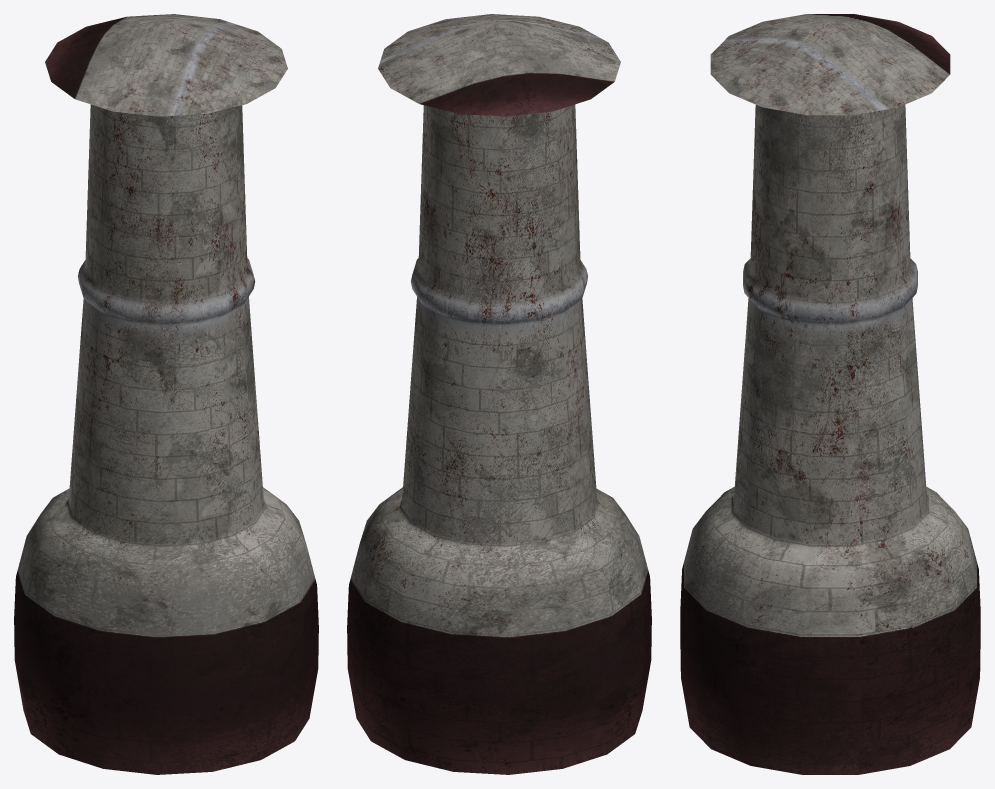
Rendered from LightHouse.fbx.
The picture shows the model from 3 angles, left to right: view 1: azimuth 30°, elevation 25°; view 2: azimuth 150°, elevation 25°; view 3: azimuth 270°, elevation 25°; orthographic projection.
Visible parts, largest first — view 1: Cylinder, Cylinder.002; view 2: Cylinder, Cylinder.002; view 3: Cylinder, Cylinder.002.
Boxes of the visible parts, x1=… form: Cylinder: x1=14, y1=104, x2=318, y2=774; Cylinder.002: x1=45, y1=14, x2=287, y2=116; Cylinder: x1=347, y1=104, x2=651, y2=774; Cylinder.002: x1=378, y1=14, x2=620, y2=116; Cylinder: x1=680, y1=105, x2=980, y2=774; Cylinder.002: x1=710, y1=14, x2=950, y2=115.
Bounding box in the file's own units: 771 × 1965 × 771.
